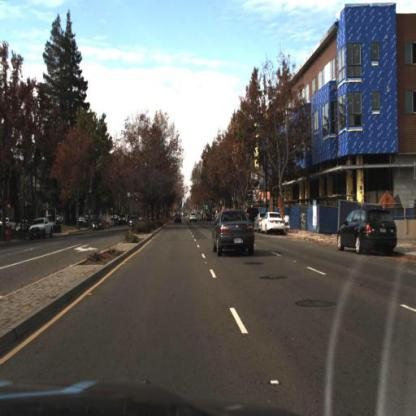car: (338, 208, 398, 257), (213, 208, 257, 255), (260, 208, 288, 238), (28, 215, 55, 239), (261, 212, 285, 233), (172, 210, 187, 228), (128, 212, 142, 229), (256, 212, 267, 233), (190, 209, 200, 225)
